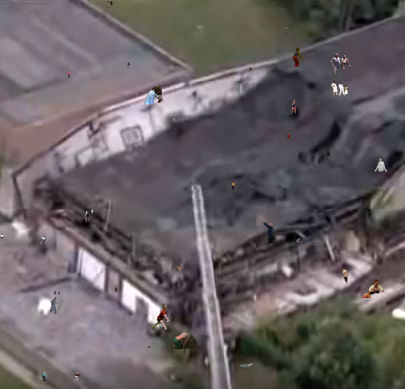Human: (41, 369, 80, 383), (260, 218, 276, 252), (291, 100, 328, 114), (360, 279, 387, 298), (151, 304, 170, 331), (170, 332, 200, 349), (0, 233, 46, 244), (330, 53, 351, 77), (144, 85, 163, 106), (238, 355, 262, 368), (331, 81, 350, 96), (292, 47, 305, 67), (374, 157, 387, 173), (309, 150, 330, 158), (50, 297, 58, 314), (342, 268, 348, 284), (106, 1, 113, 11), (85, 211, 90, 222), (230, 181, 235, 191), (248, 67, 252, 77), (176, 265, 181, 271), (285, 26, 288, 34), (54, 291, 60, 295), (68, 71, 71, 78), (180, 189, 183, 196), (147, 344, 151, 349), (308, 244, 313, 248), (296, 238, 300, 243), (115, 286, 118, 292), (91, 209, 94, 215), (287, 133, 290, 139), (173, 117, 175, 126), (127, 62, 130, 68)
